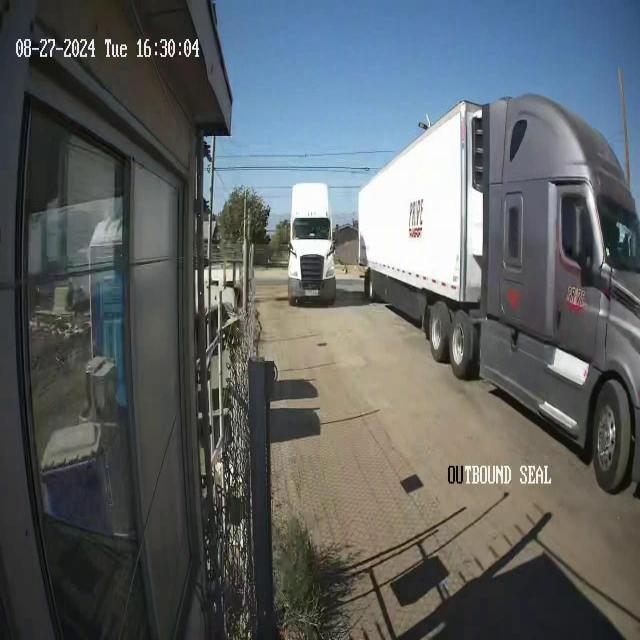TRUCK_IN: (357, 85, 639, 495)
